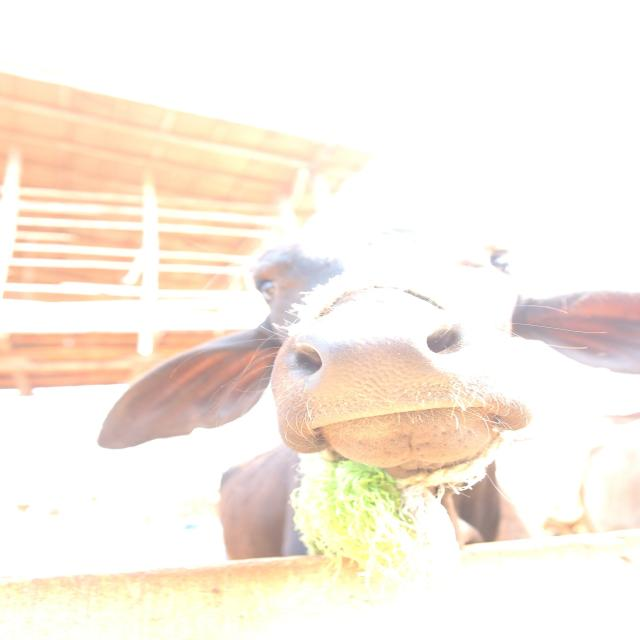muzzles: (279, 317, 493, 425)
